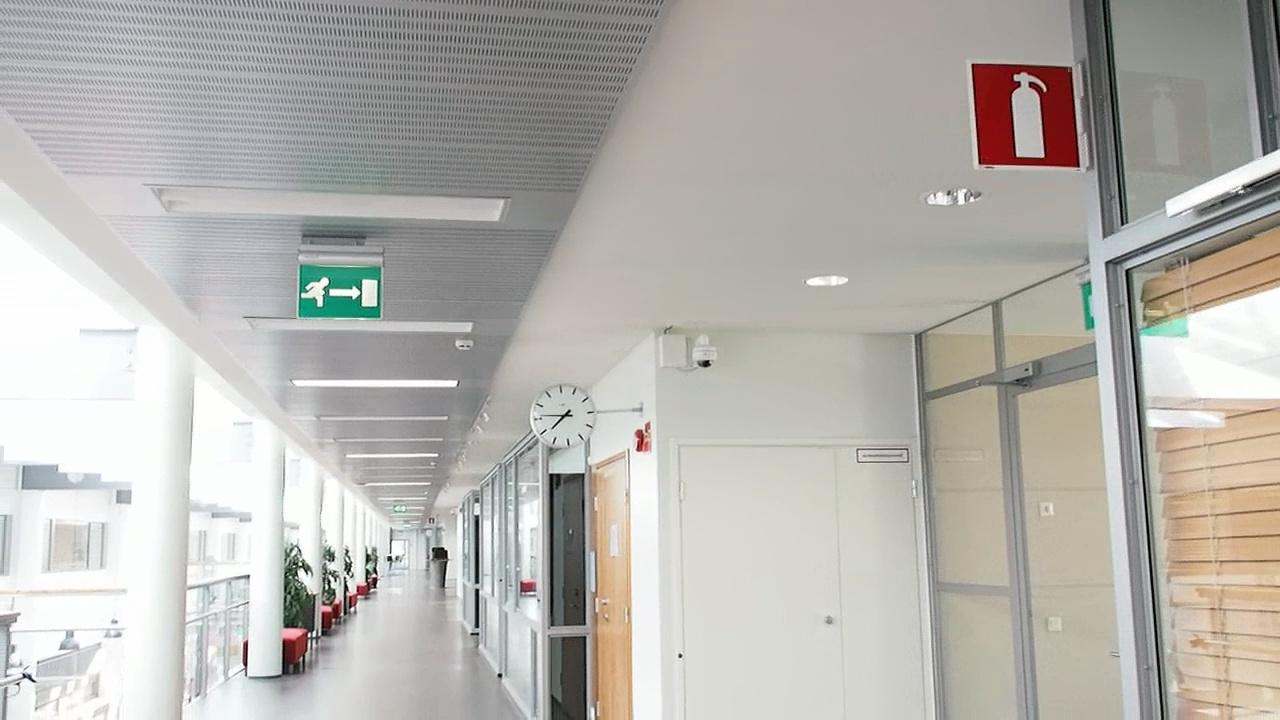clock: (527, 386, 600, 452)
exit: (290, 262, 380, 321)
fireextinguisher: (977, 60, 1081, 167)
